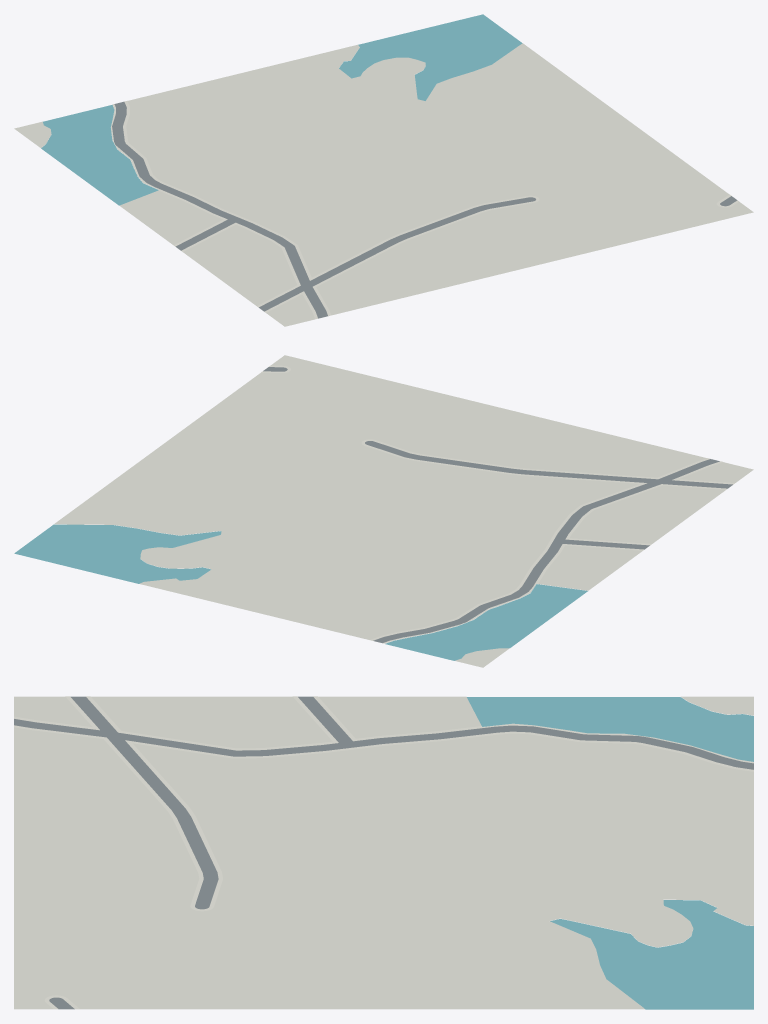
3 renders of one model, top to bottom at view 1: azimuth 30°, elevation 25°; view 2: azimuth 150°, elevation 25°; view 3: azimuth 270°, elevation 25°, orthographic. The views are drawn at different scales.
Parts seen in each view (by area): view 1: city; view 2: city; view 3: city.
Boxes of the visible parts, x1,y1,x2,y2 form: city: [14, 14, 753, 326]; city: [14, 355, 753, 667]; city: [14, 696, 753, 1009].
Size of the model in its own units: 500 by 0.4 by 500.
